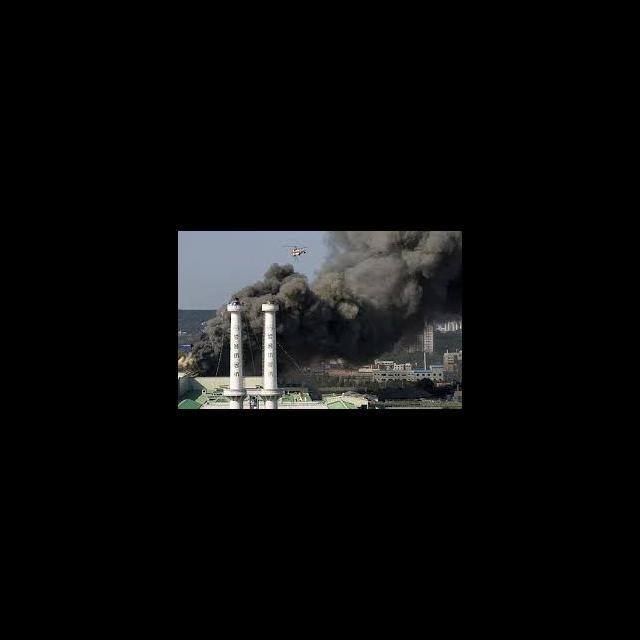Smoke: (191, 231, 462, 375)
